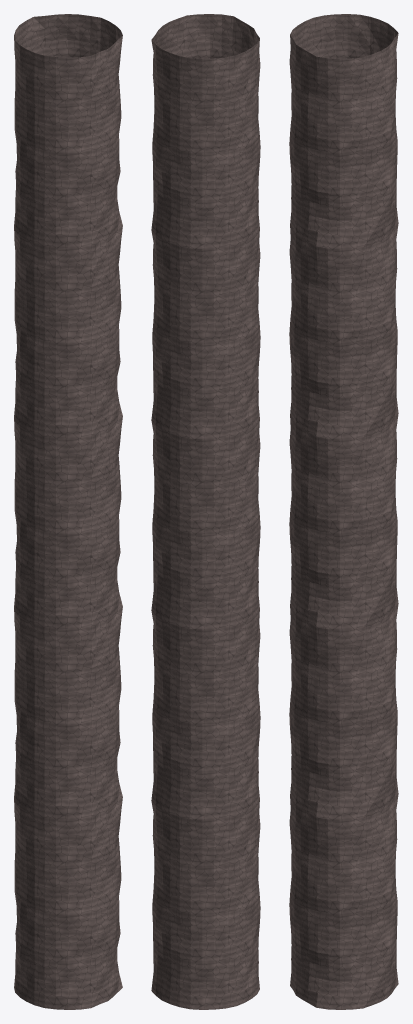
Rendered from Circle3Walls.obj.
3 renders of one model, left to right at view 1: azimuth 90°, elevation 25°; view 2: azimuth 150°, elevation 25°; view 3: azimuth 330°, elevation 25°, orthographic.
Visible parts, largest first — view 1: Circle3Walls; view 2: Circle3Walls; view 3: Circle3Walls.
Part boxes in pixels (bbox=[...]): Circle3Walls: bbox=[14, 14, 122, 1009]; Circle3Walls: bbox=[151, 14, 260, 1009]; Circle3Walls: bbox=[289, 14, 398, 1009].
Size of the model in its own units: 36.33 by 350 by 36.27.
Materials: 1 (1 with a texture image).
